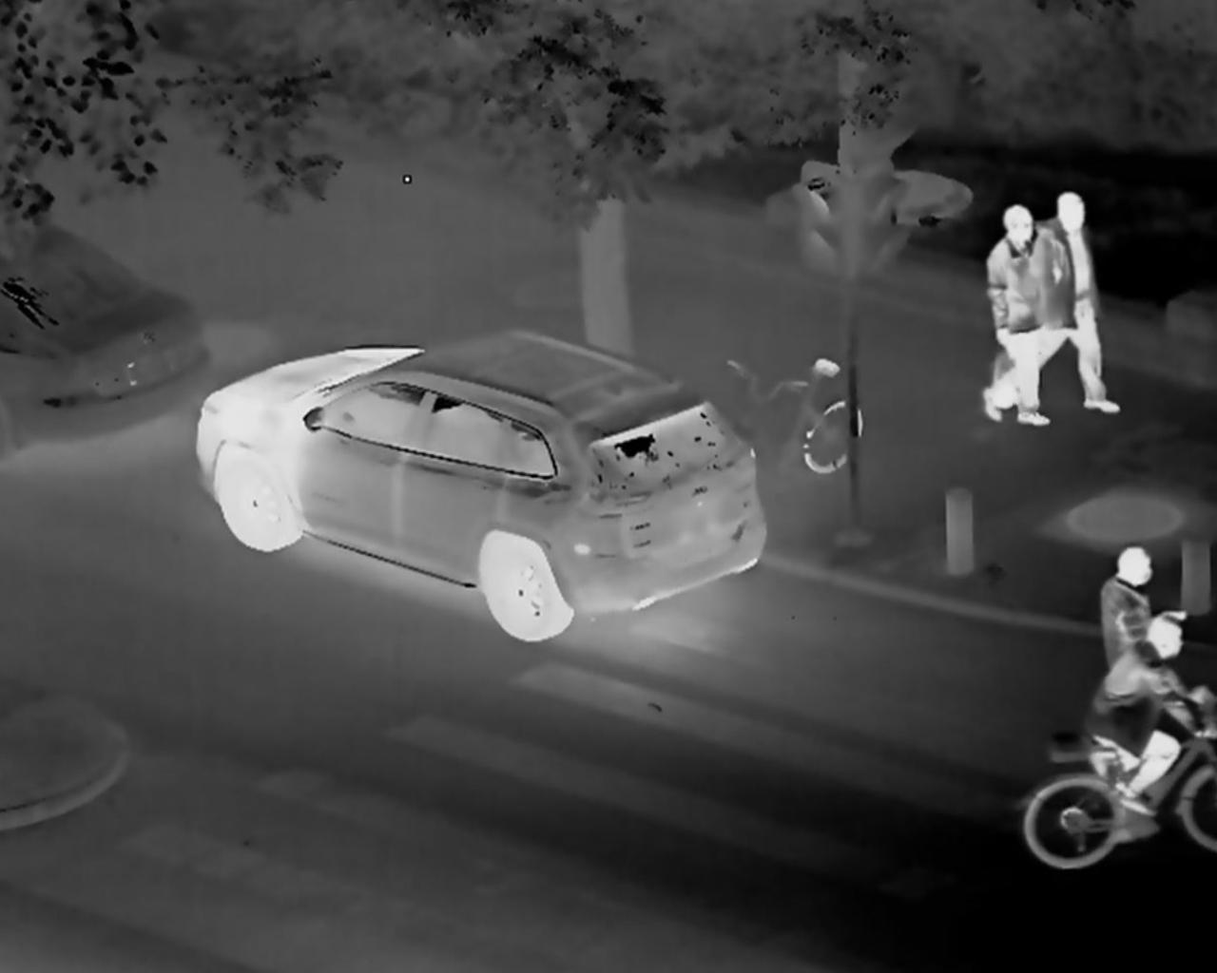person: (1092, 543, 1188, 754), (1033, 189, 1118, 411), (1096, 613, 1188, 814), (983, 200, 1048, 427)
